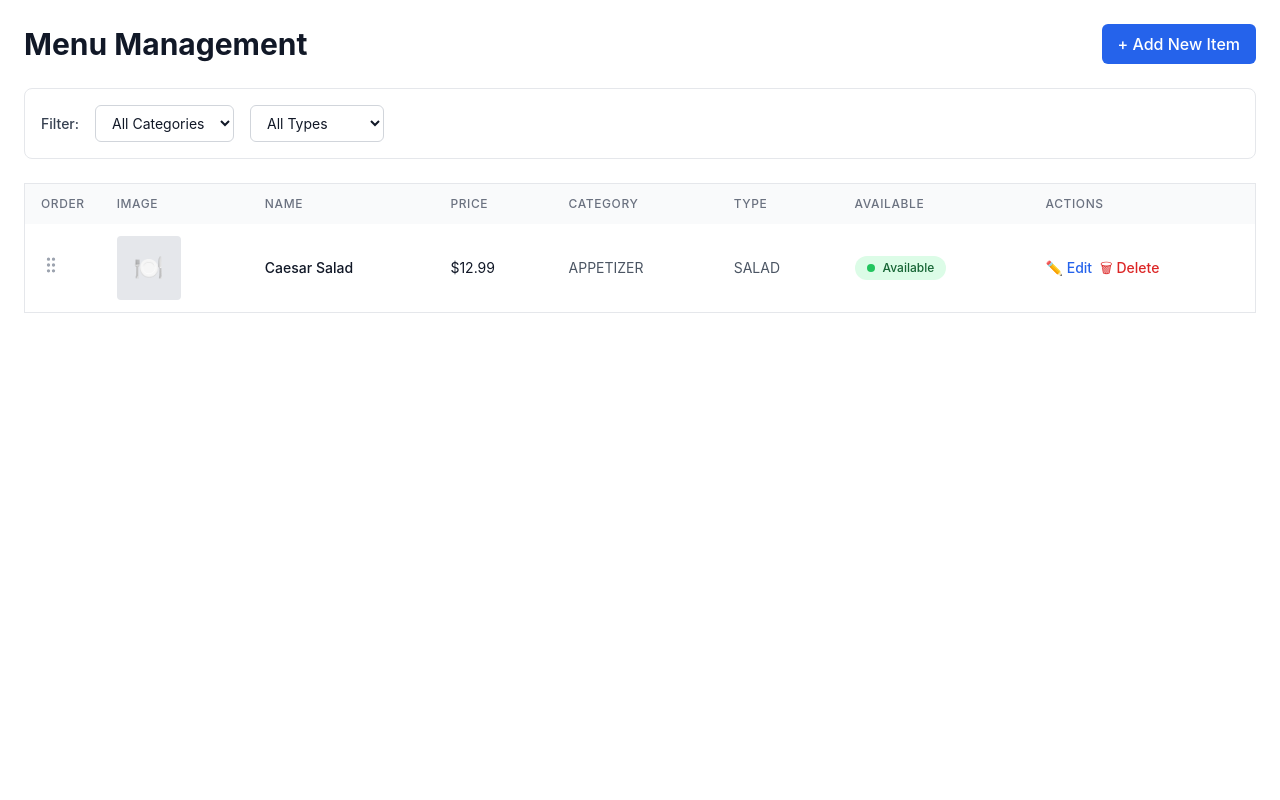
Test: MenuManagement Page › Delete functionality › delete button opens confirmation modal
The width and height of the screenshot is (1280, 800).
Step 1. Click the button with aria-label "delete caesar salad" → x=1130, y=268, box [1100, 258, 1159, 278]
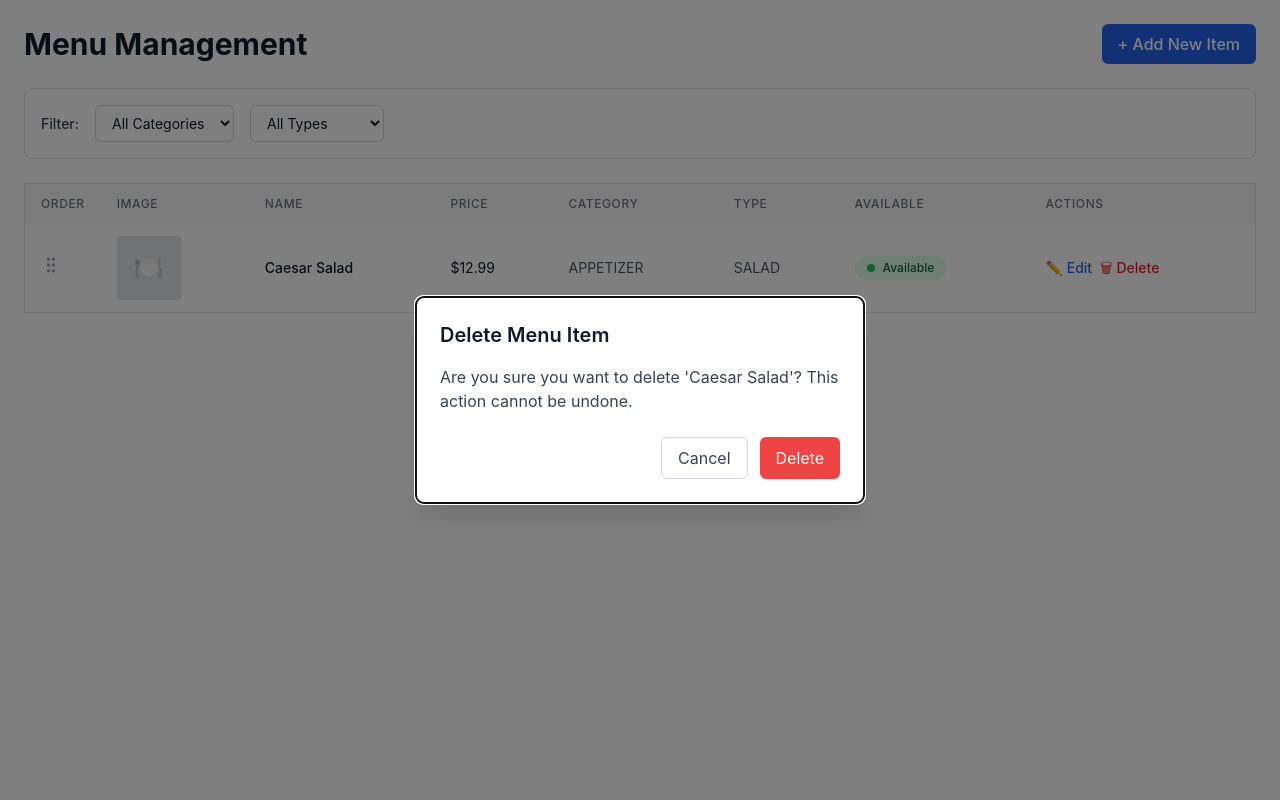
Check: the heading "Delete Menu Item" is shown, box [440, 323, 609, 347]
Check: the text "Are you sure you want to delete 'Caesar Salad'" is shown, box [440, 367, 838, 411]
